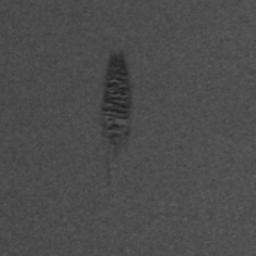Secondary rust skin: (101, 51, 133, 153)
